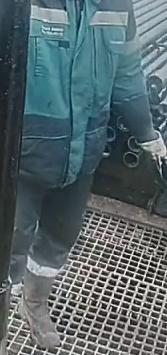gloves: (135, 129, 166, 179)
vest: (20, 1, 143, 182)
